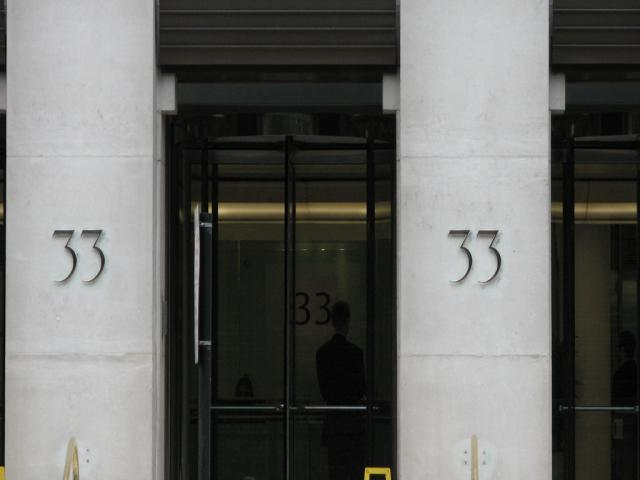Door-handle: (195, 202, 212, 364)
